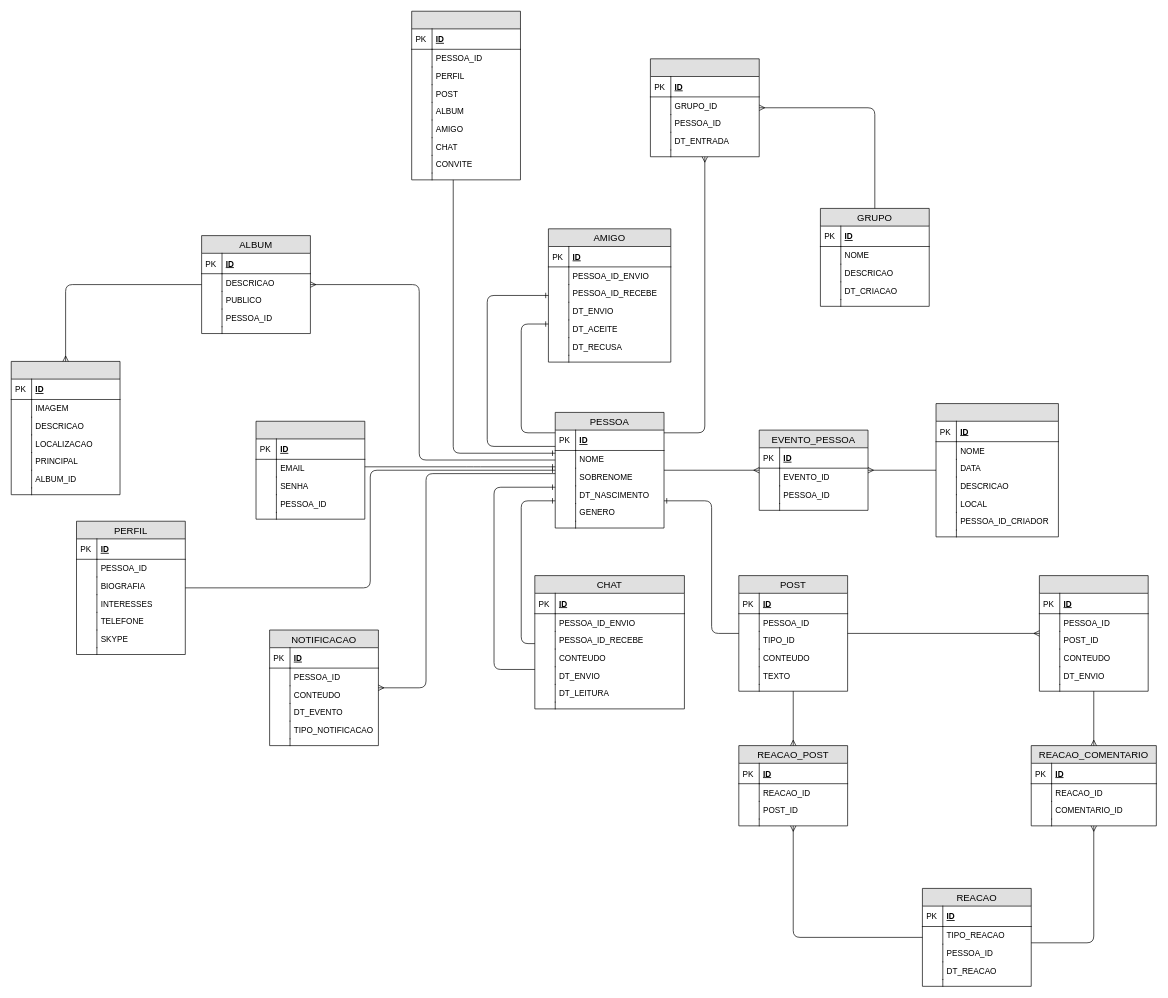
This 1168x998 diagram has some shape labels left out. The shapes that lost their labels are listed below. From the top down, each one's box as (x1, y1, x2, y2) in pixels, then its label:
(411, 11, 520, 180): PRIVACIDADE
(650, 58, 759, 157): GRUPO_PESSOA
(11, 361, 120, 495): IMAGENS
(255, 421, 365, 519): USUARIO
(935, 403, 1058, 537): EVENTO
(1039, 575, 1148, 691): COMENTARIO
